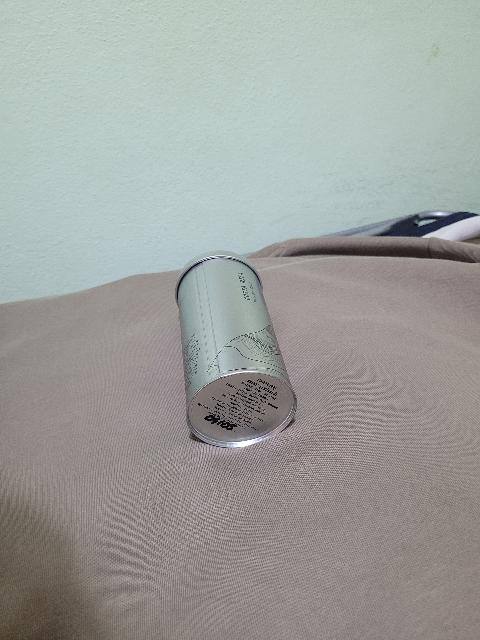Metal: (173, 248, 302, 452)
